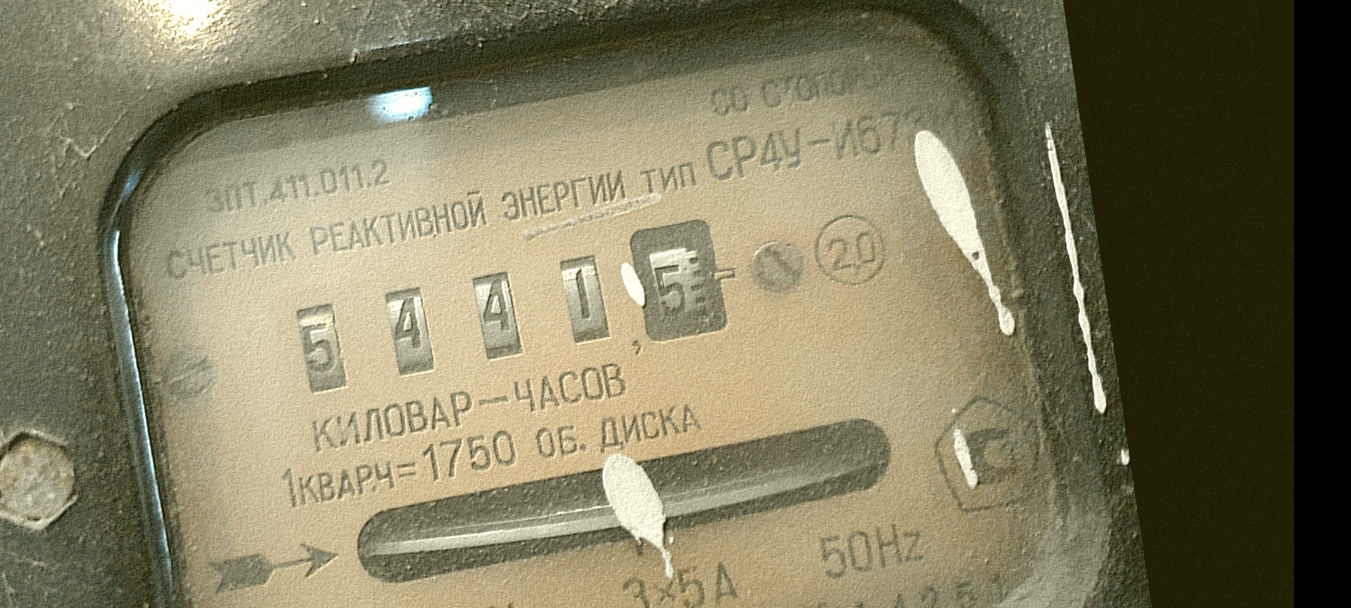1: (566, 264, 598, 325)
4: (471, 272, 517, 342), (385, 290, 429, 356)
5: (649, 256, 693, 323), (295, 317, 342, 379)
screen: (264, 192, 756, 424)
